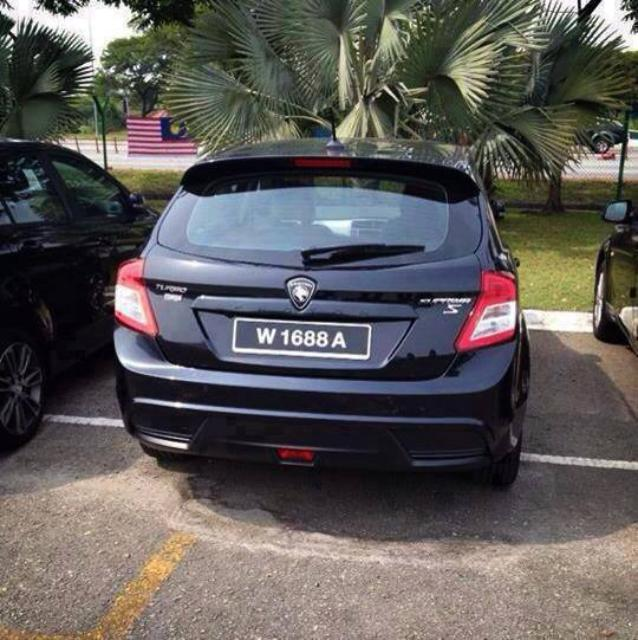License_Plate: (232, 318, 375, 364)
car: (113, 145, 535, 491)
